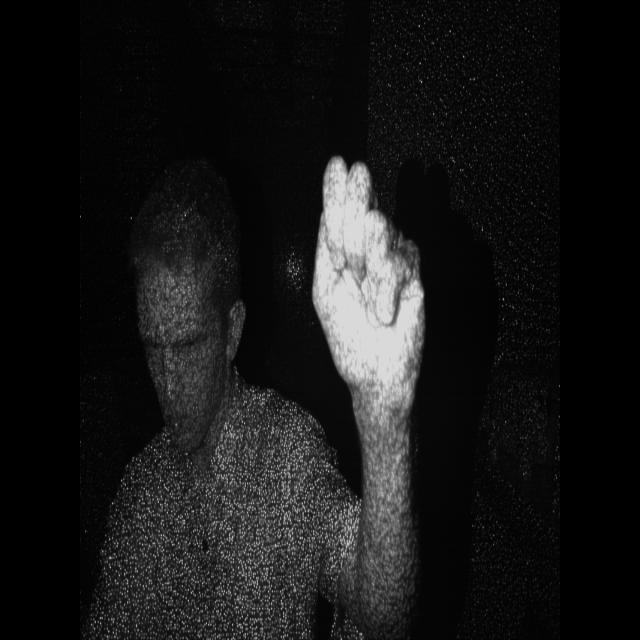N: (307, 124, 440, 424)
